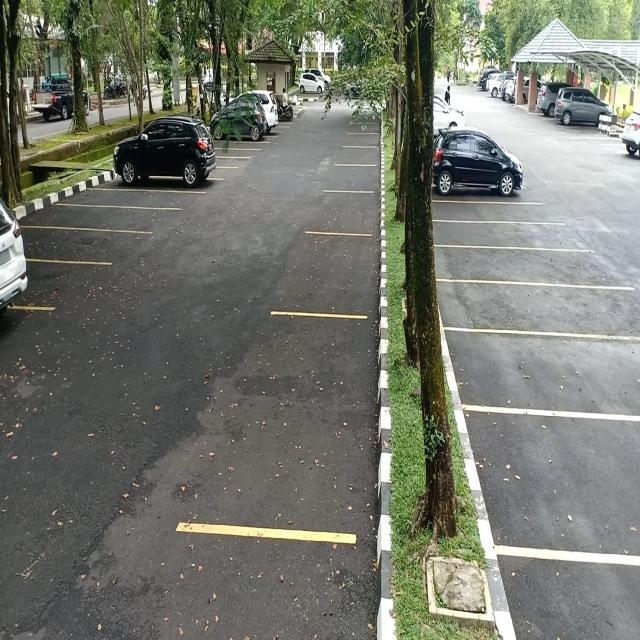empty: (237, 307, 373, 546), (486, 404, 640, 564), (457, 326, 640, 416), (441, 278, 601, 330), (296, 230, 378, 316), (436, 242, 582, 286), (434, 220, 570, 250), (28, 226, 126, 266), (38, 202, 146, 232), (435, 200, 552, 224), (320, 188, 377, 235), (78, 186, 180, 210)
occupied: (108, 135, 216, 194), (433, 154, 524, 204)
